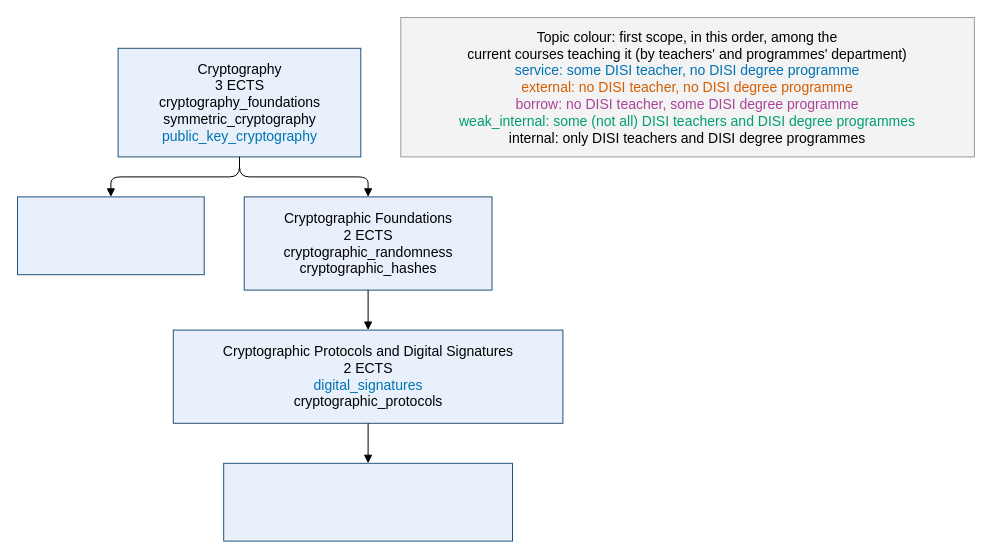
This 992x559 diagram has some shape labels left out. Each missing label, with the centre of its shape:
"Cryptographic Protocol Analysis 1 ECTS cryptographic_protocol_analysis" belongs at pixel 367 501.
"Data Compression 1 ECTS data_compression" belongs at pixel 110 235.
